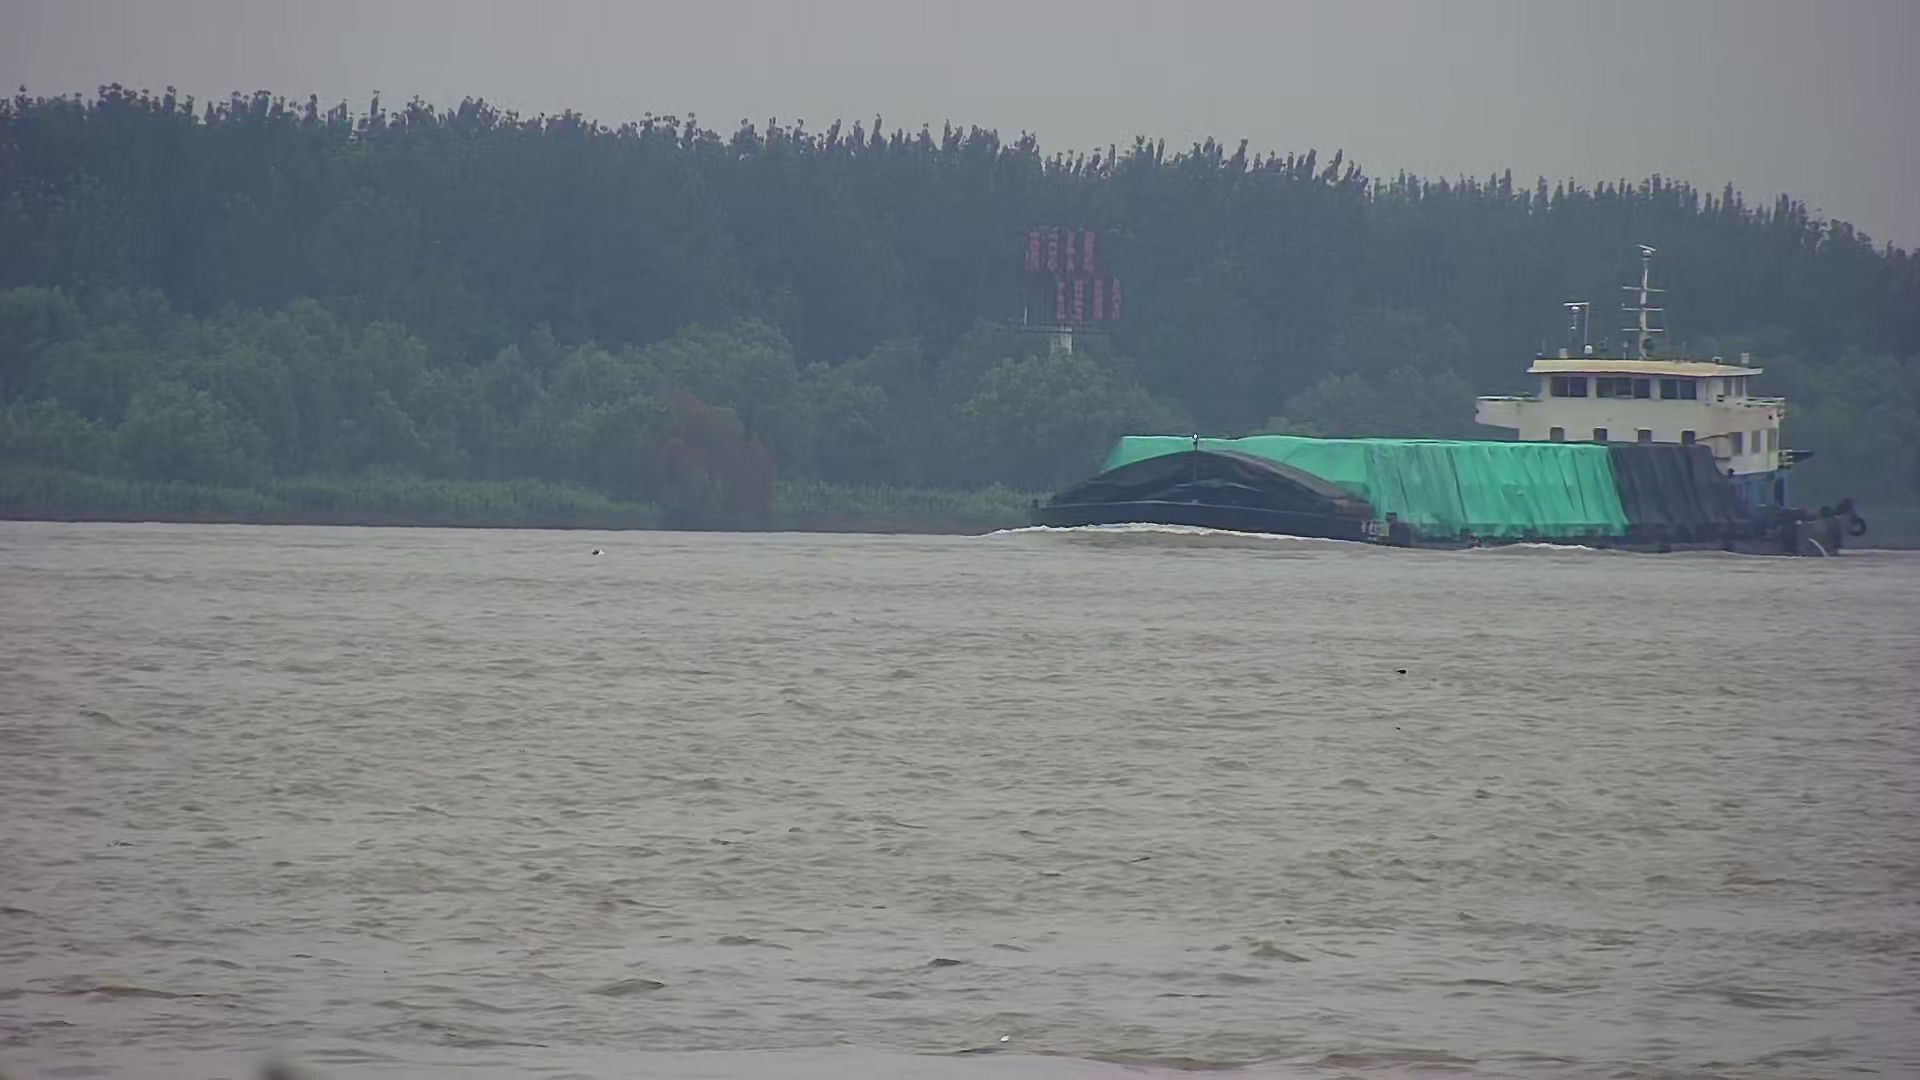ship: (993, 289, 1866, 568)
